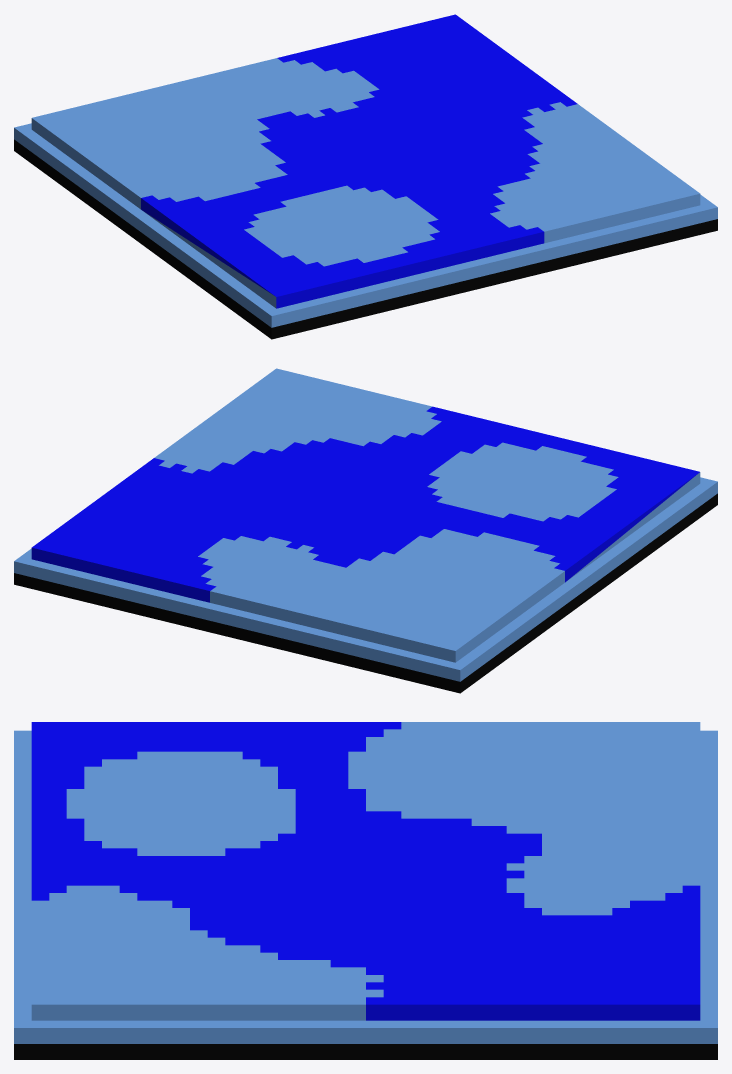
File: BoardPieceThree.fbx
3 views of the same model, one above another, from view 1: azimuth 30°, elevation 25°; view 2: azimuth 150°, elevation 25°; view 3: azimuth 270°, elevation 25° (orthographic). The views are drawn at different scales.
Parts seen in each view (by area): view 1: boardGround3; view 2: boardGround3; view 3: boardGround3.
Part boxes in pixels (x1,y1,x2,y2): boardGround3: (14, 14, 717, 339); boardGround3: (14, 368, 717, 693); boardGround3: (14, 722, 717, 1059).
Size of the model in its own units: 400 by 30 by 400.
